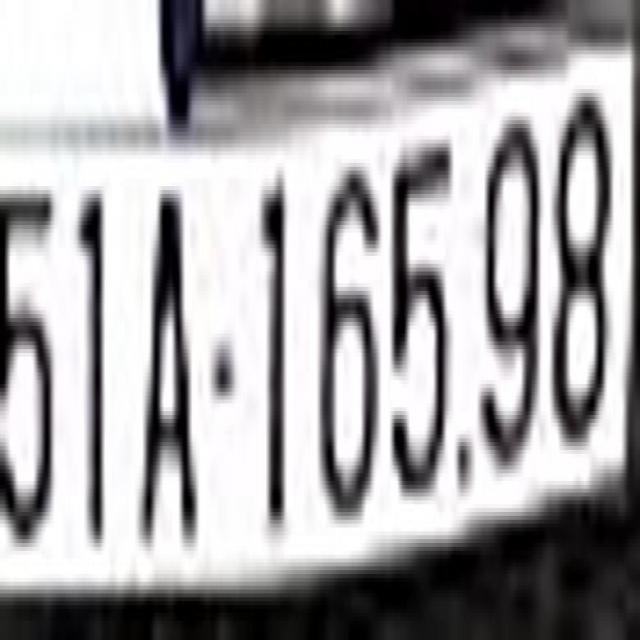1: (66, 182, 120, 555), (252, 156, 302, 532)
5: (387, 101, 454, 512), (1, 163, 51, 551)
6: (314, 128, 382, 532)
8: (547, 78, 613, 470)
9: (480, 81, 544, 492)
A: (139, 182, 202, 555)
